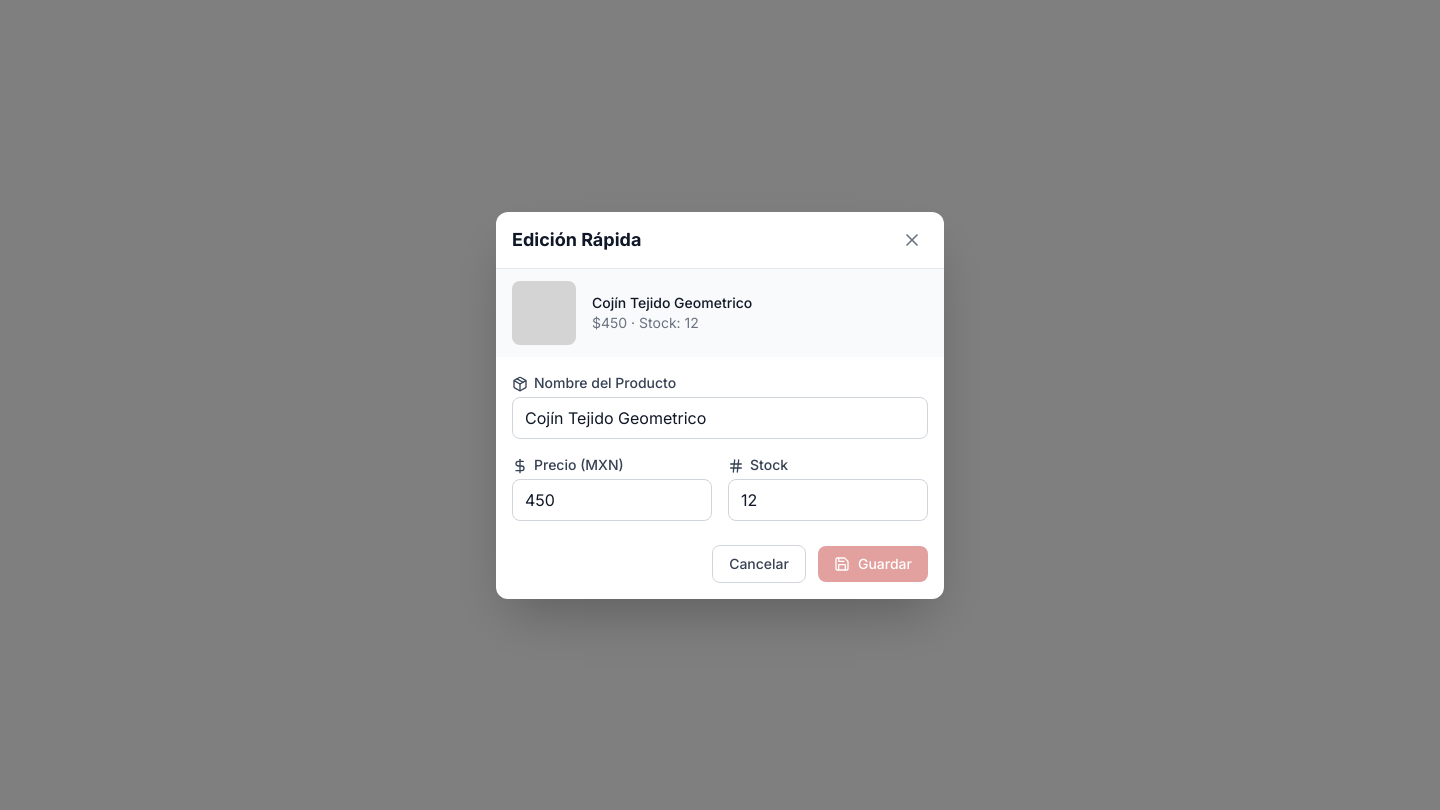
Test: QuickEditModal › validation › should show error when name is empty
The image size is (1440, 810).
Clear the field labelled "Nombre del Producto" at [720, 418], box [512, 396, 928, 438]
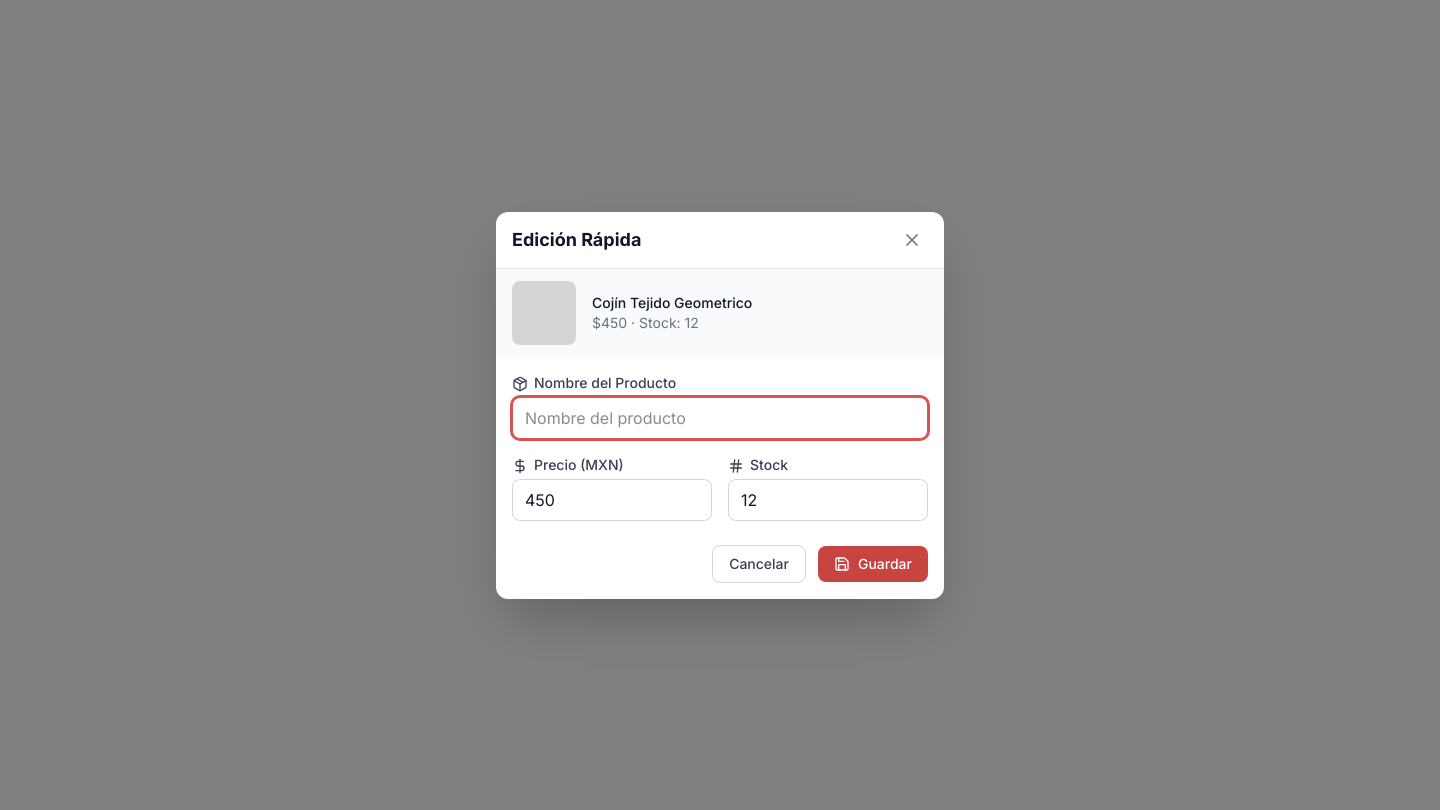
Click the button "Guardar" at [873, 564], box [818, 546, 928, 582]
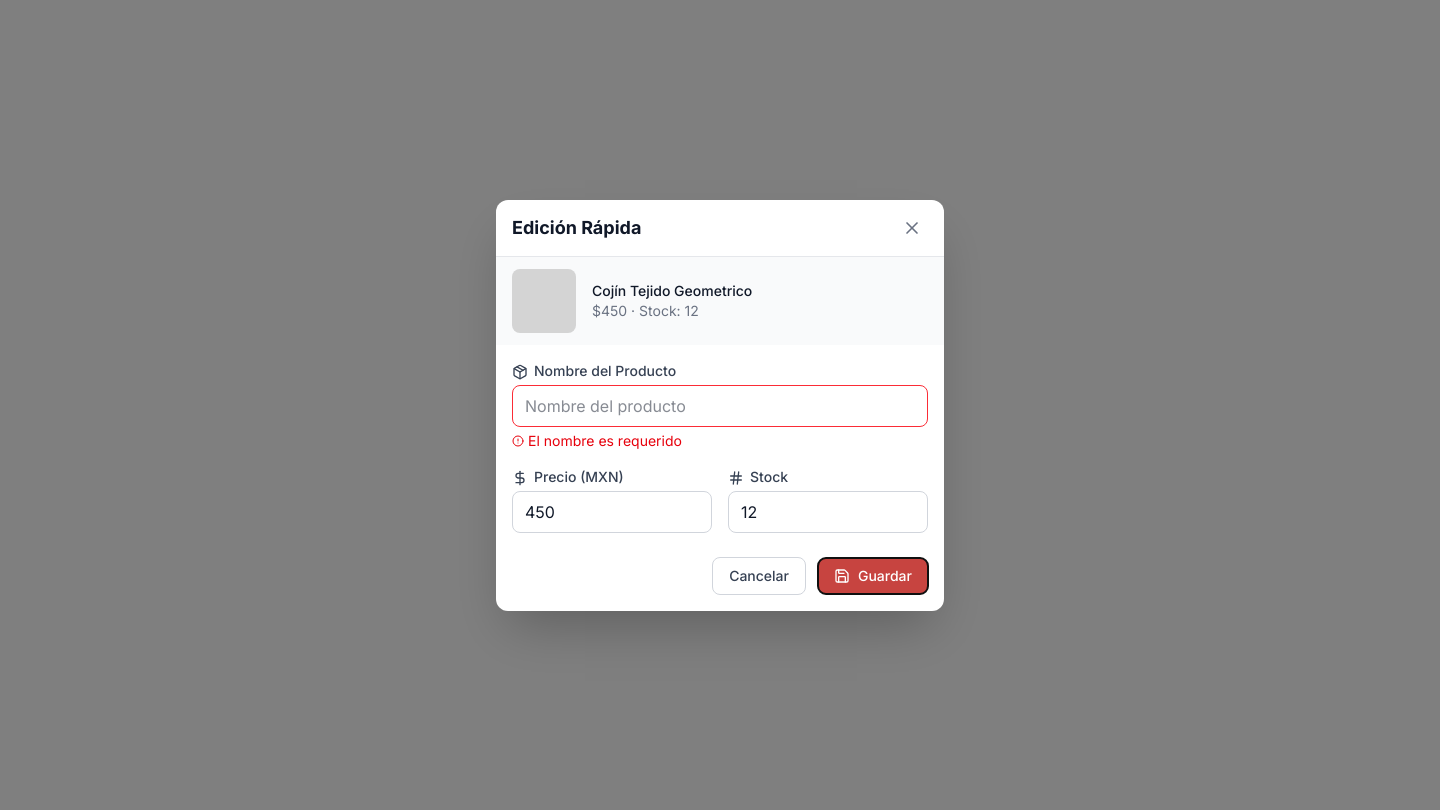
Check: the text "El nombre es requerido" is shown, box [512, 432, 682, 448]
